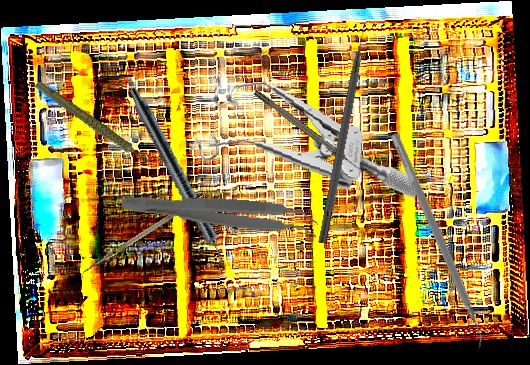Chopper: (76, 193, 209, 283)
Handpiece: (122, 85, 236, 276), (33, 62, 150, 187)
Hook Surgical: (318, 22, 372, 245), (253, 88, 364, 175)
Spatula Surgical: (380, 131, 494, 354)
Speculum: (186, 73, 428, 198)
Tissue Forceps: (119, 189, 320, 241)
